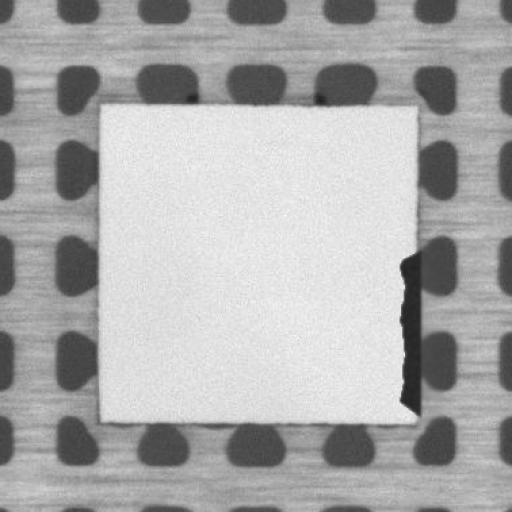DIE_BROKEN: (394, 246, 423, 419)
